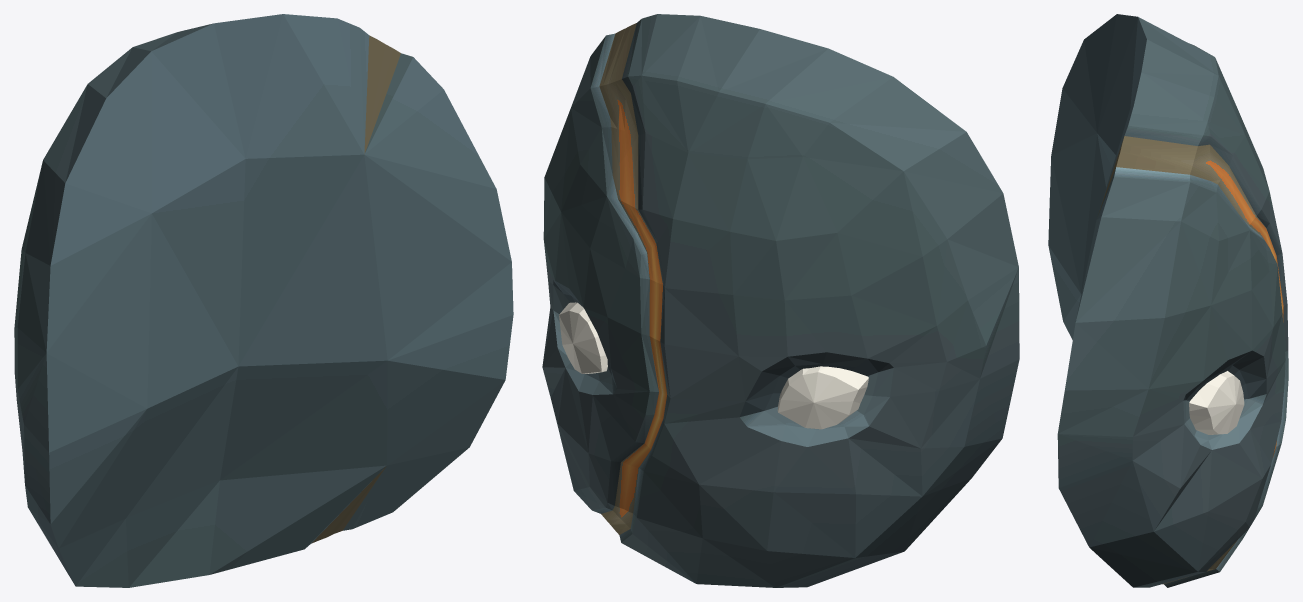
The model's file is CharSkyKid_Mask_AP29RepairedD.glb.
3 renders of one model, left to right at view 1: azimuth 30°, elevation 25°; view 2: azimuth 150°, elevation 25°; view 3: azimuth 270°, elevation 25°, orthographic. The views are drawn at different scales.
Visible parts, largest first — view 1: CharSkyKid_Mask_AP29RepairedD; view 2: CharSkyKid_Mask_AP29RepairedD; view 3: CharSkyKid_Mask_AP29RepairedD.
Part boxes in pixels (x1,y1,x2,y2): CharSkyKid_Mask_AP29RepairedD: (14,14,513,587); CharSkyKid_Mask_AP29RepairedD: (542,14,1019,587); CharSkyKid_Mask_AP29RepairedD: (1048,14,1288,587).
Bounding box in the file's own units: 2.15 × 2.49 × 1.05.
1 material, 1 textured.
